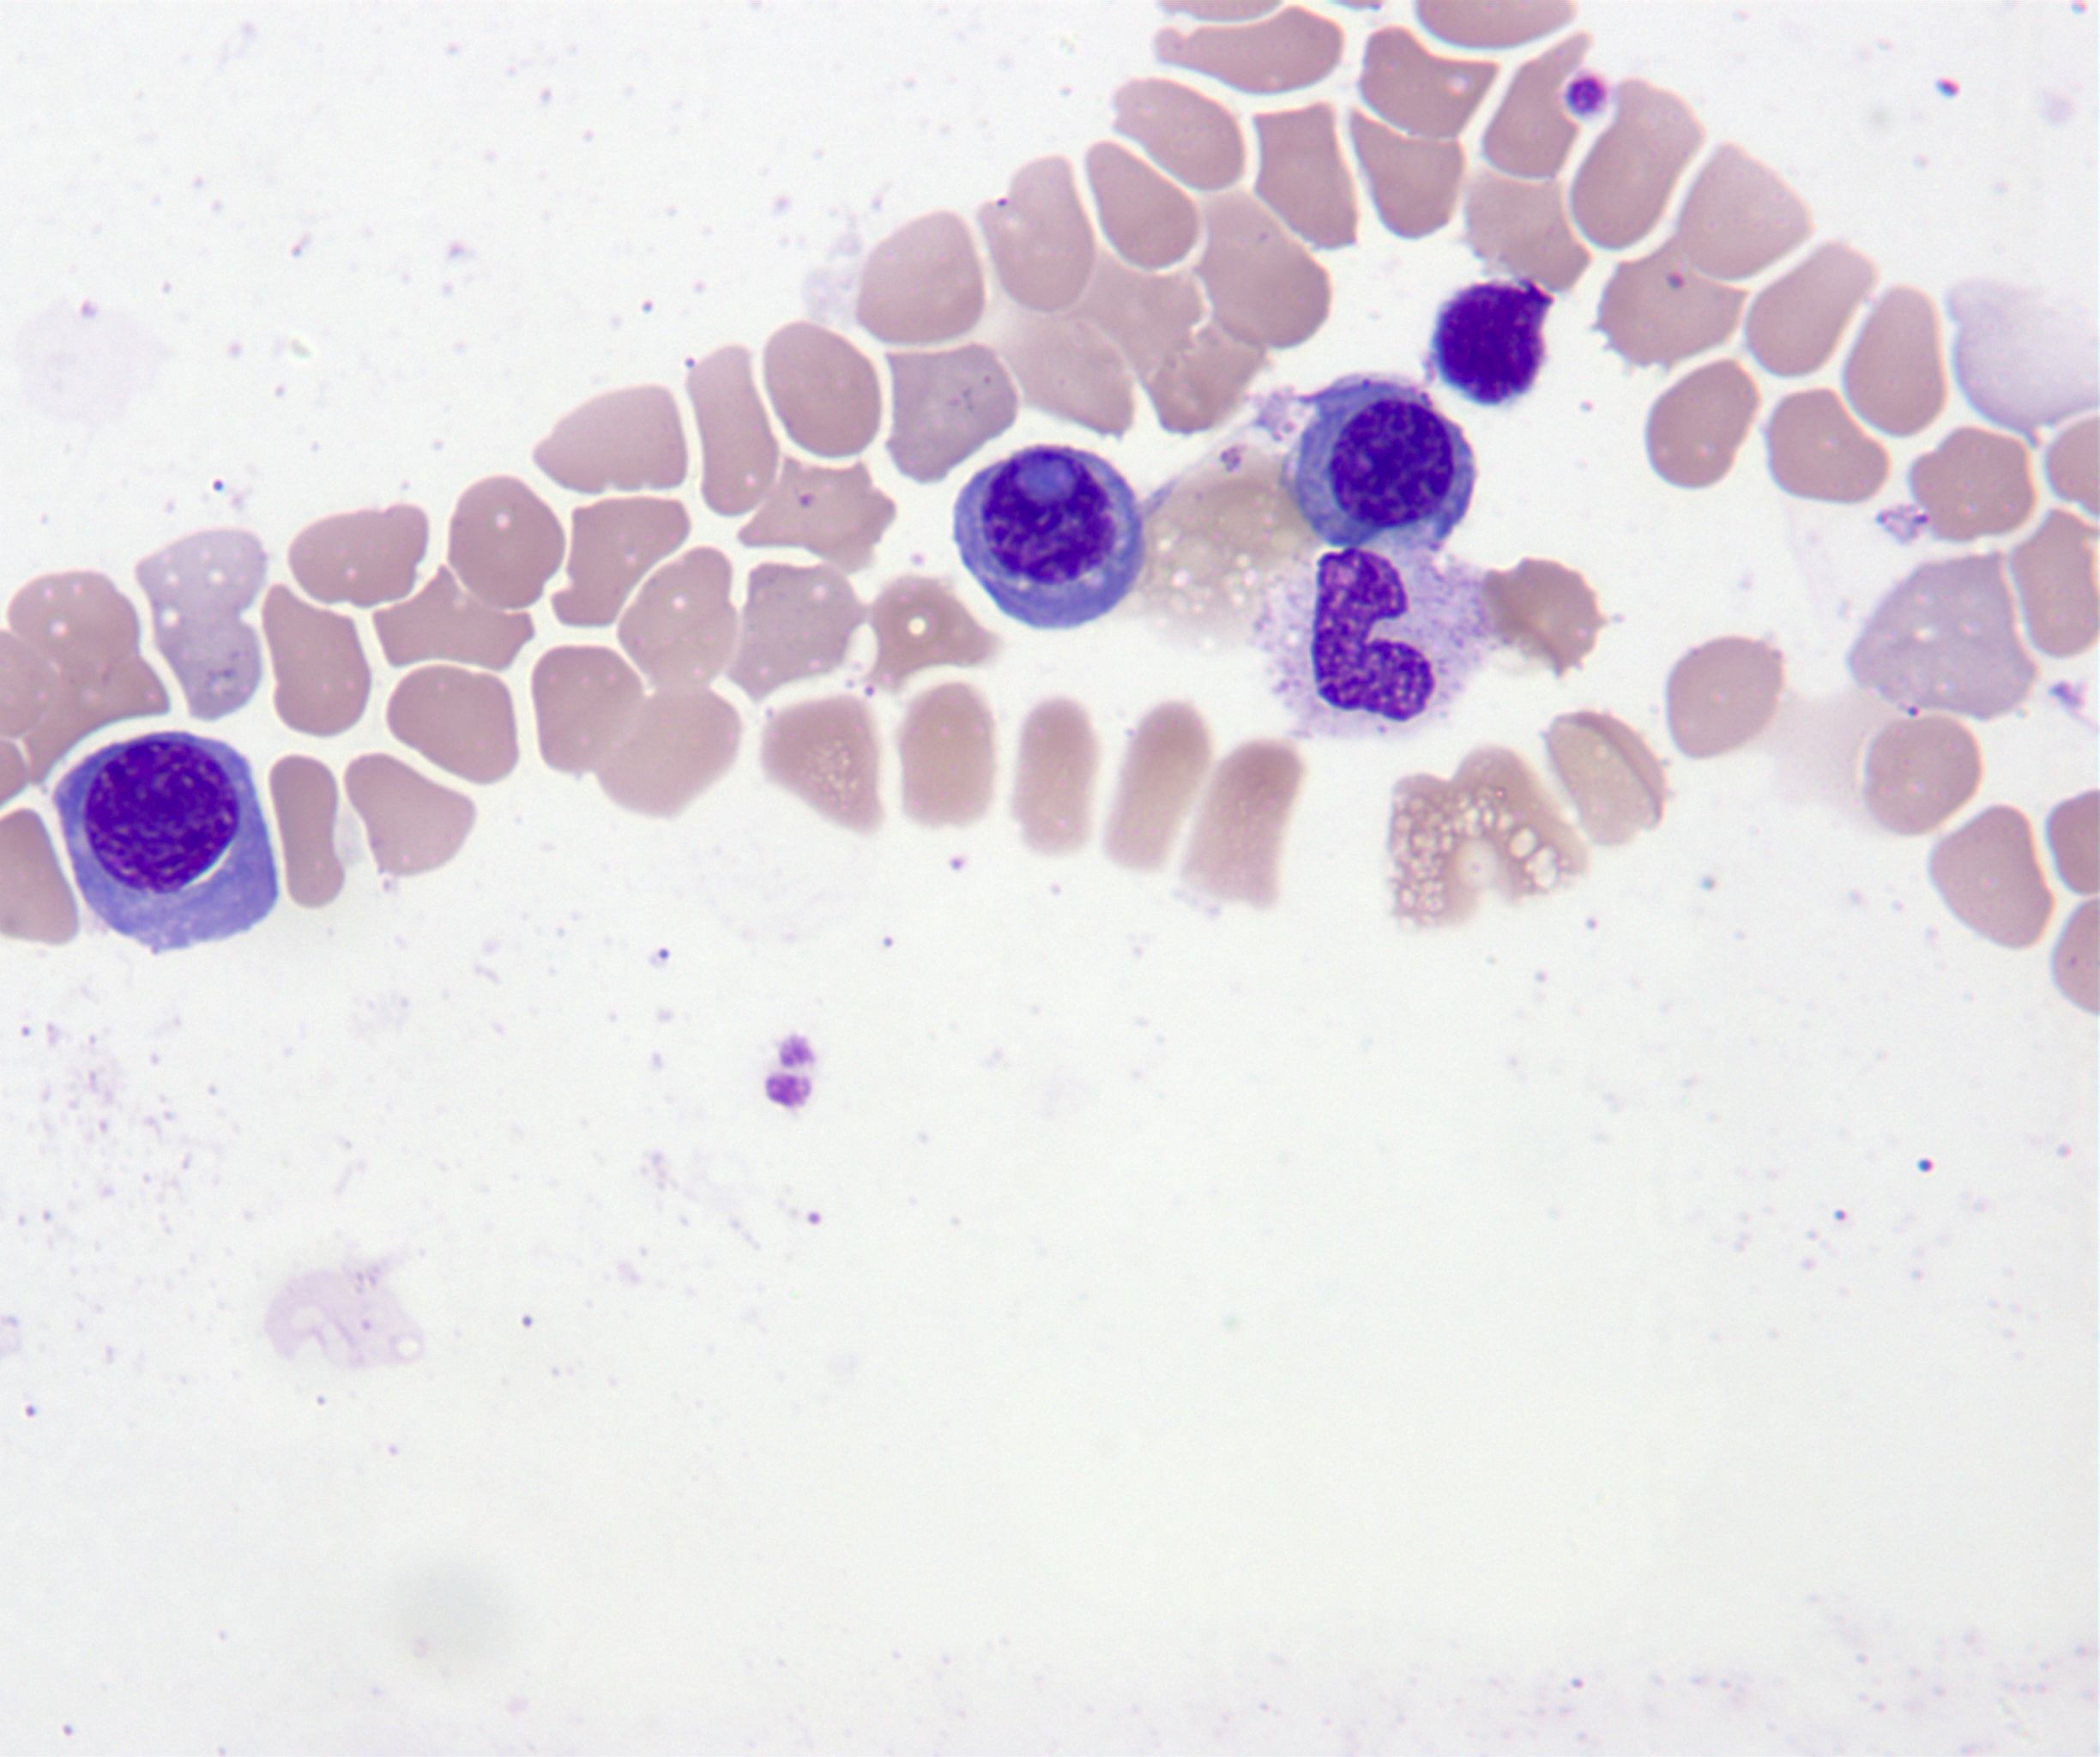23: (52, 731, 279, 953), (954, 445, 1144, 630), (1278, 375, 1474, 551)
x: (1254, 539, 1490, 735), (1425, 274, 1554, 407)
